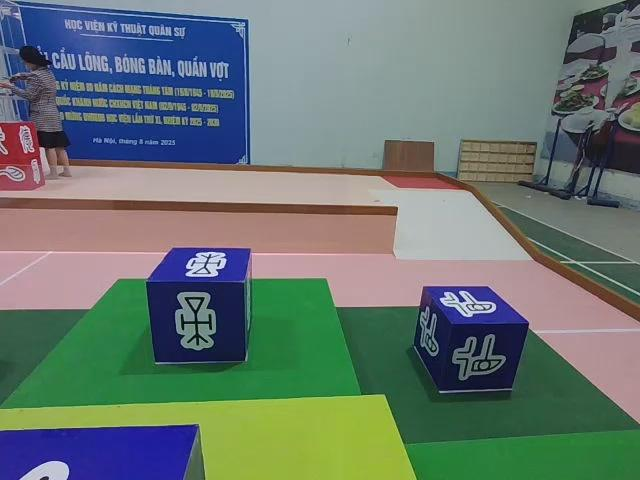R2 Real Blue: (415, 286, 531, 396), (147, 250, 254, 368)
